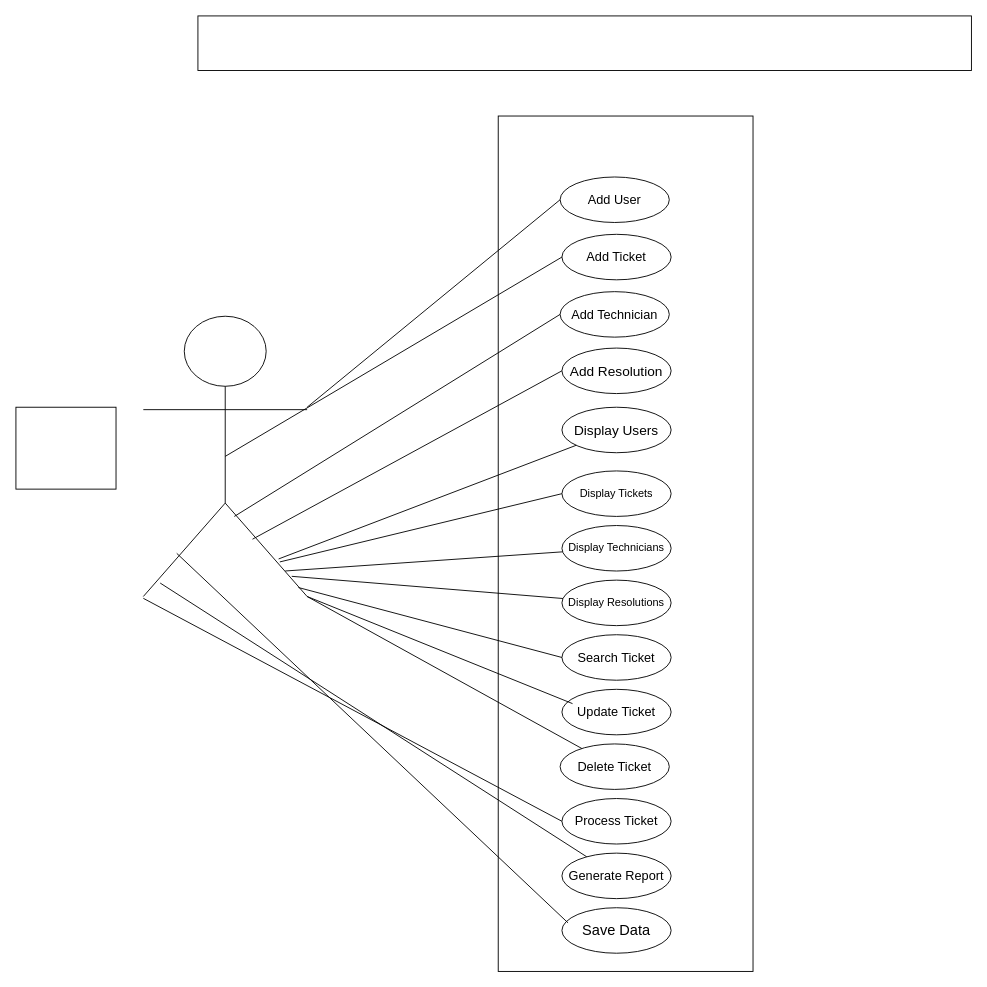
Some shapes in this 987 by 987 pixel diagram are drawn without their labels. Here are the shapes that lost their labels. From the top down, the box of each, then its label:
(197, 15, 971, 71): IT Help Desk / Ticketing System – Use Case Diagram
(15, 406, 116, 489): 👤 Help Desk Staff
(142, 315, 307, 597): Actor
(497, 115, 753, 971): IT Help Desk / Ticketing System
